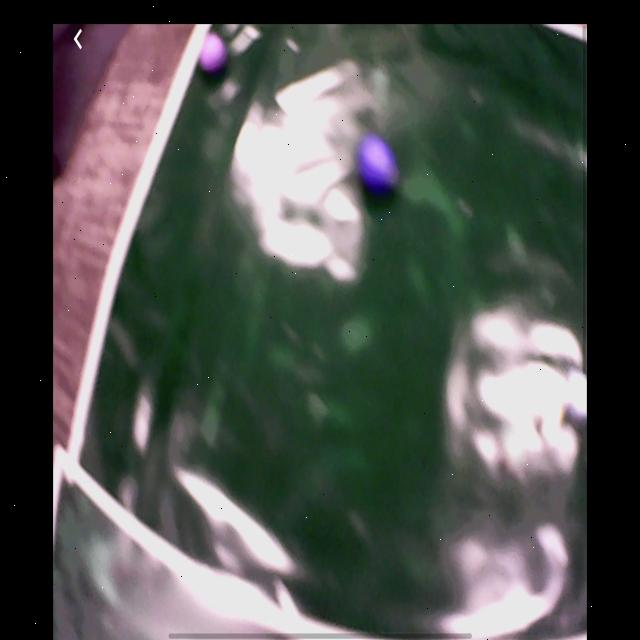ball: (358, 136, 397, 192), (199, 34, 228, 72)
